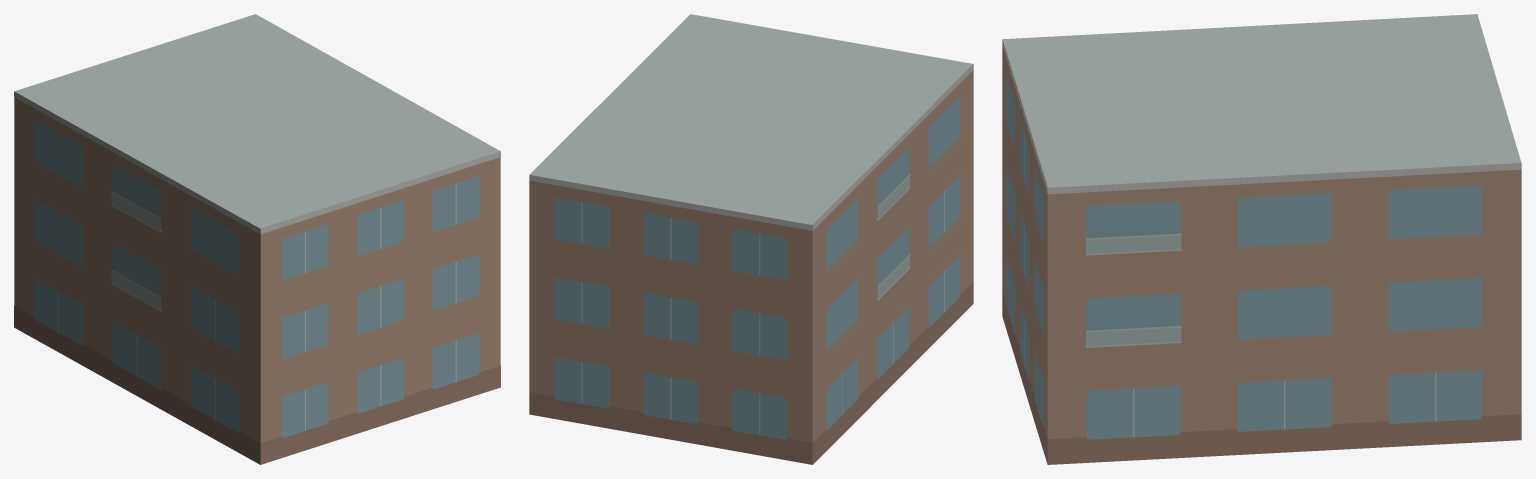
File: survey-upis-32838862.glb
The picture shows the model from 3 angles, left to right: view 1: azimuth 30°, elevation 25°; view 2: azimuth 150°, elevation 25°; view 3: azimuth 270°, elevation 25°; orthographic projection. The views are drawn at different scales.
Parts seen in each view (by area): view 1: survey-upis-32838862.tmp; view 2: survey-upis-32838862.tmp; view 3: survey-upis-32838862.tmp.
Part boxes in pixels (<box>): survey-upis-32838862.tmp: <box>14,14,500,464</box>; survey-upis-32838862.tmp: <box>529,14,973,464</box>; survey-upis-32838862.tmp: <box>1002,14,1521,464</box>.
Size of the model in its own units: 13.73 by 10.2 by 17.33.
